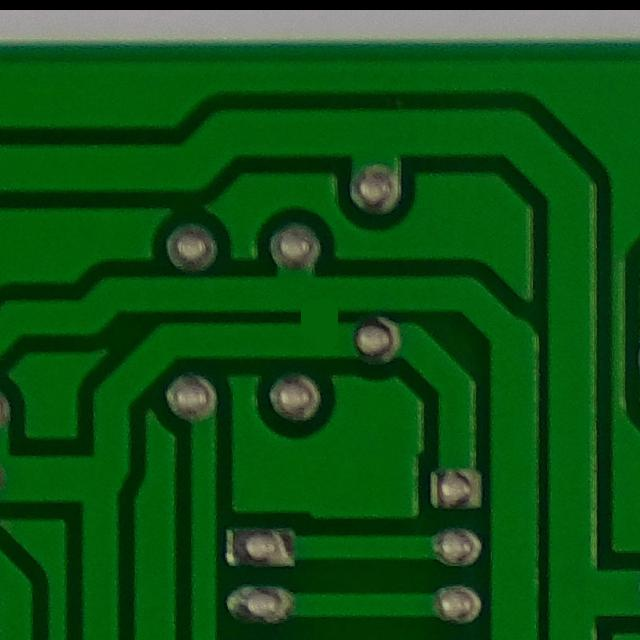short: (279, 280, 362, 359)
